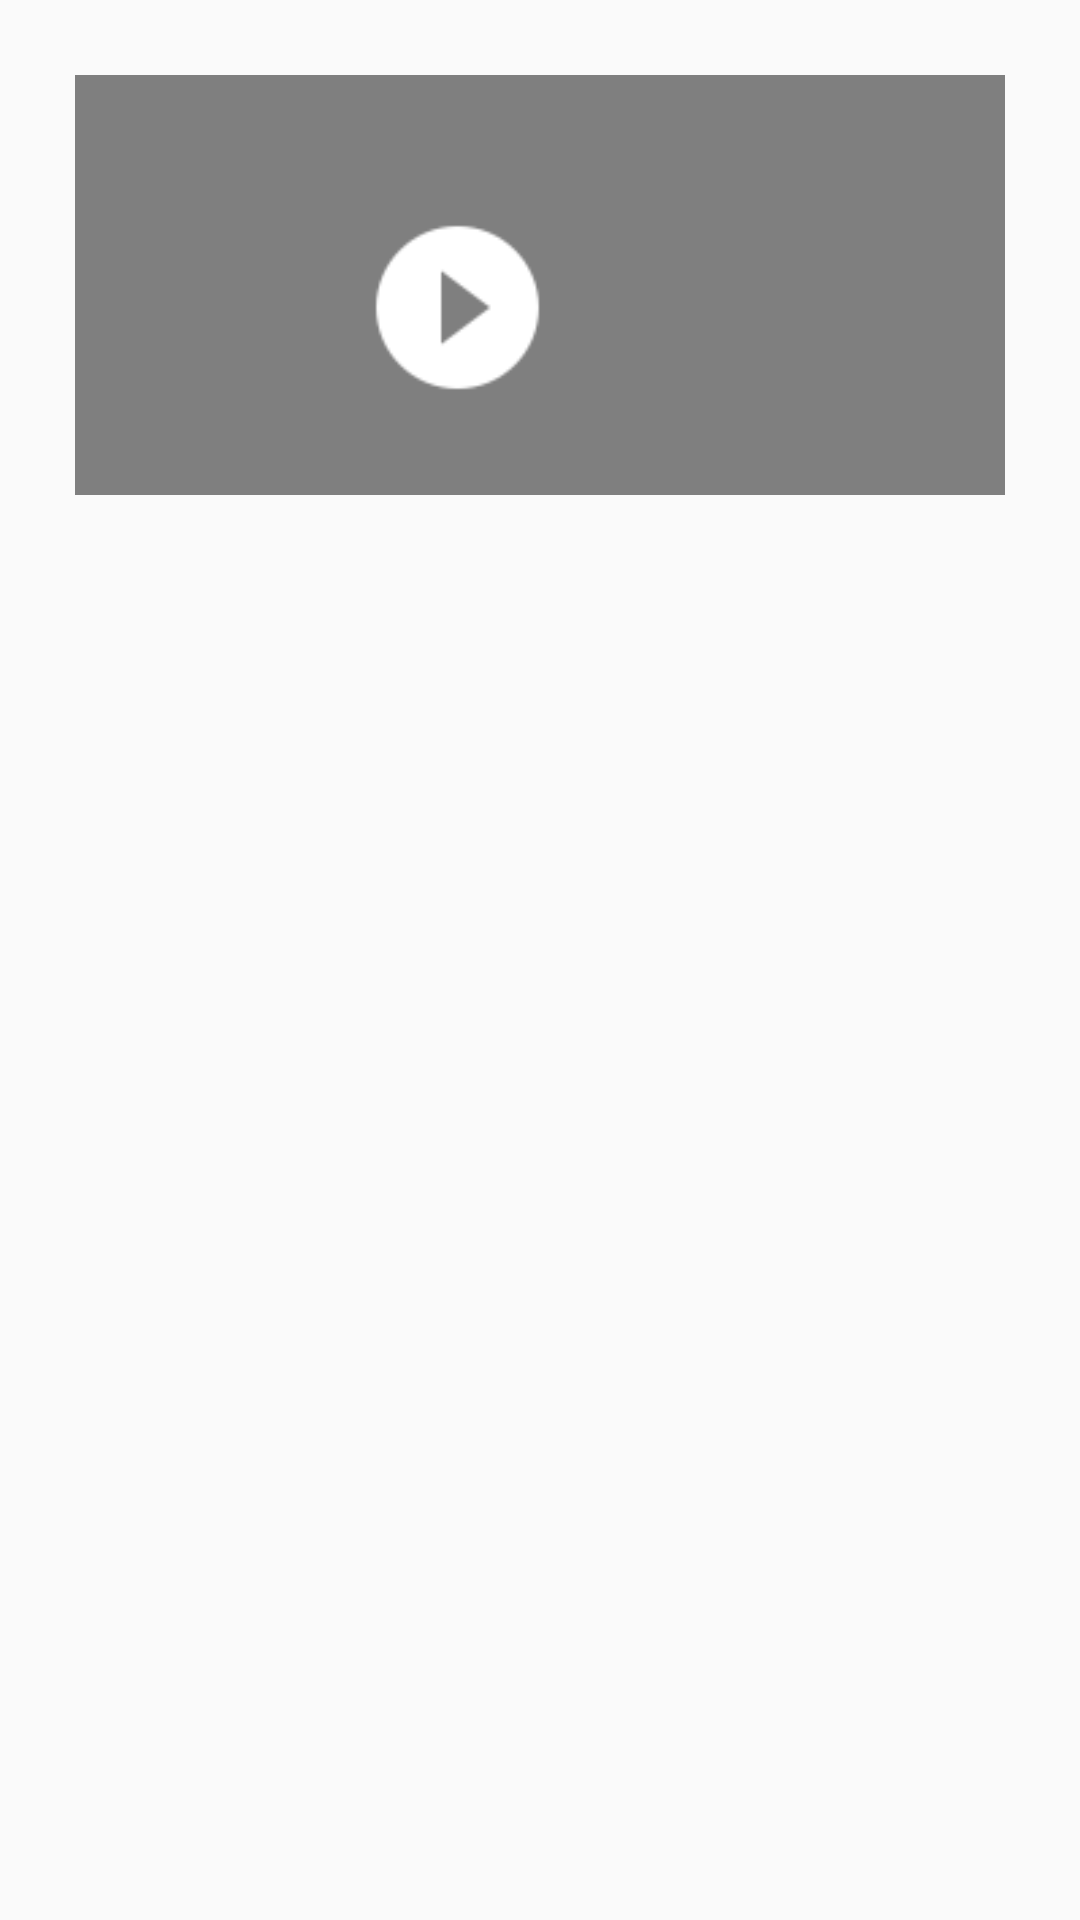

Icons on this 1080px x 1920px Android screen, each with the point to tap as (x,y):
play: (457,307)
